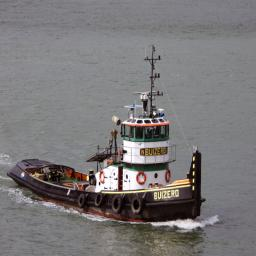tugboat: (6, 86, 207, 230)
